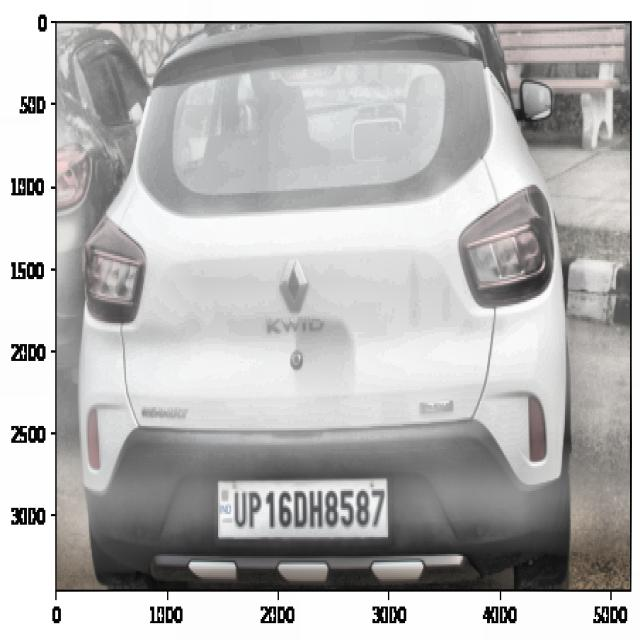license_plate: (226, 480, 390, 537)
